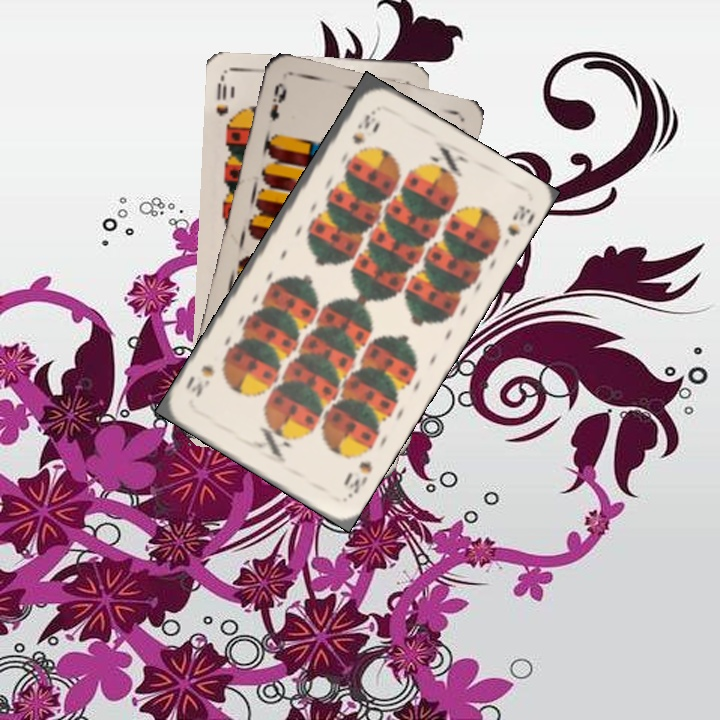E9: (265, 78, 289, 125)
S10: (339, 457, 375, 501), (212, 74, 235, 133), (348, 106, 378, 147)
